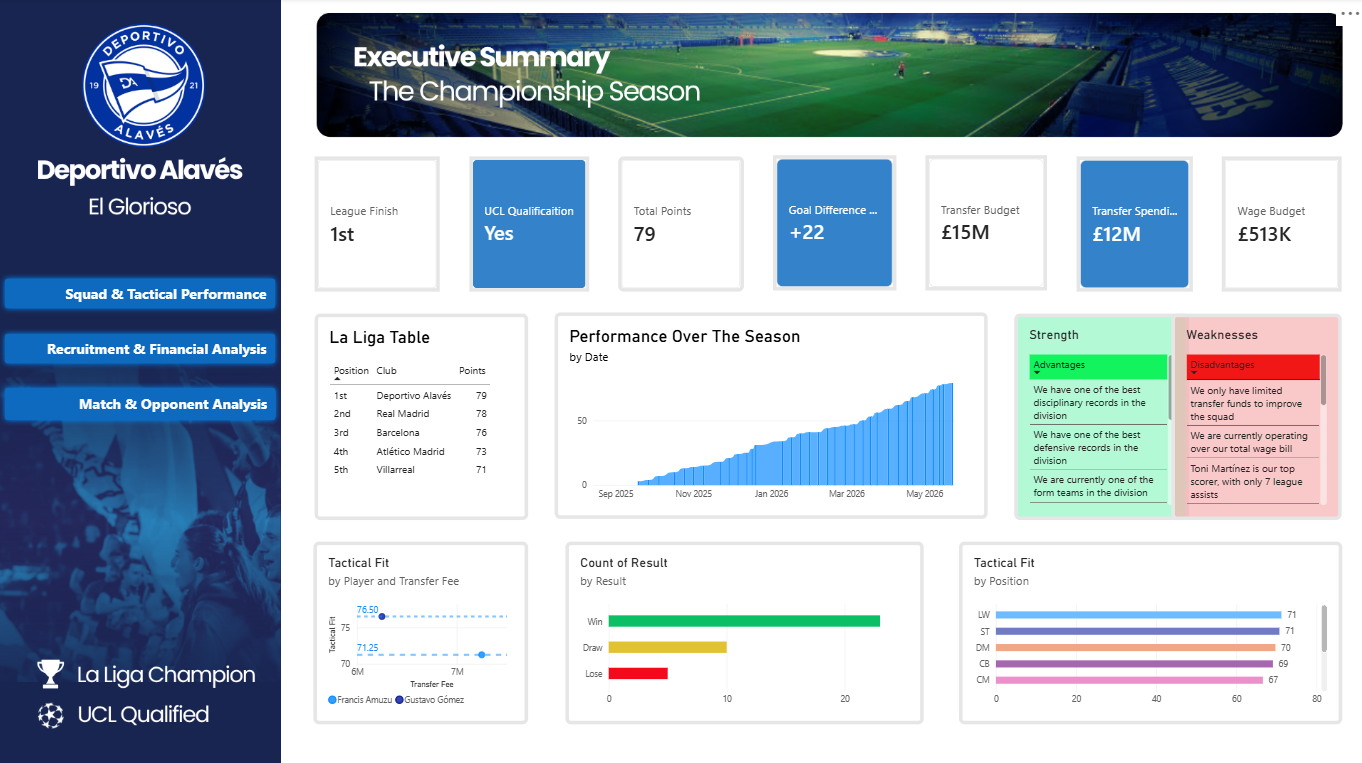

Layout of this report page (visuals, bound fields, positions):
{"tool":"powerbi","page":{"name":"Executive Summary","canvas":[1920,1080],"ordinal":0},"visuals":[{"type":"image","box":[0,0,1920.6,1080.2],"z":0},{"type":"cardVisual","fields":{"Data":["PBI_Financials.League Finish Display"]},"box":[443.3,221.7,176.7,190],"z":1000},{"type":"cardVisual","fields":{"Data":["Min(PBI_Financials.UCL_Qualification)"]},"box":[660.8,221.7,168.3,190],"z":2000},{"type":"cardVisual","fields":{"Data":["PBI_Financials.Total Points"]},"box":[869.9,222,176.7,190],"z":3000},{"type":"cardVisual","fields":{"Data":["Sum(PBI_Financials.Wage_Budget_Week)"]},"box":[1718,222,168,190],"z":4000},{"type":"tableEx","title":"La Liga Table","fields":{"Values":["PBI_Table.Position","PBI_Table.Club","PBI_Table.Points"]},"box":[444,444,300,290],"z":5000},{"type":"ribbonChart","fields":{"Category":["PBI_Matches.Date"],"Y":["Sum(PBI_Matches.Cumulative_Points)"]},"box":[781,442,608,290],"z":6000},{"type":"clusteredBarChart","fields":{"Category":["PBI_Matches.Result"],"Y":["CountNonNull(PBI_Matches.Result)"]},"box":[794.8,764,503.3,256.7],"z":7000},{"type":"cardVisual","fields":{"Data":["PBI_Financials.Goal Difference Display"]},"box":[1087.3,220,173.3,190],"z":8000},{"type":"cardVisual","fields":{"Data":["Sum(PBI_Financials.Transfer_Budget)"]},"box":[1301.4,220,171.7,190],"z":9000},{"type":"cardVisual","fields":{"Data":["Sum(PBI_Financials.Transfer_Spending)"]},"box":[1513.9,222,163.3,190],"z":10000},{"type":"clusteredBarChart","fields":{"Category":["PBI_Suggested_XI.Position"],"Y":["Avg(PBI_Suggested_XI.Tactical_Fit)"]},"box":[1348,764,538.3,256.7],"z":11000},{"type":"scatterChart","fields":{"Series":["PBI_Recruitment.Player"],"X":["PBI_Recruitment.Transfer_Fee"],"Y":["Sum(PBI_Recruitment.Tactical_Fit)"]},"box":[441.6,763.6,301.7,256.7],"z":12000},{"type":"group","id":"g1","title":"Group 1","box":[1426,444,460,290],"z":13000},{"type":"tableEx","title":"Strength","fields":{"Values":["PBI_Team_Analysis.Advantages"]},"box":[1426,444,246,290],"z":13000,"group":"g1"},{"type":"actionButton","box":[0.3,386,396,58],"z":14000},{"type":"tableEx","title":"Weaknesses","fields":{"Values":["PBI_Team_Analysis.Disadvantages"]},"box":[1646.9,444,239.1,290],"z":14000,"group":"g1"},{"type":"actionButton","box":[0.6,462.9,396,58],"z":15000},{"type":"actionButton","box":[0,540,396.7,61.7],"z":16000}]}

Visuals, with their boxes on the page's 1920x1080 design canvas (x1, y1, x2, y2). These are canvas units, not pixel positions in the 1362x763 screenshot, which may show the page scaled, cropped or inside an application window:
image: <bbox>0, 0, 1921, 1080</bbox>
cardVisual - PBI_Financials.League Finish Display: <bbox>443, 222, 620, 412</bbox>
cardVisual - Min(PBI_Financials.UCL_Qualification): <bbox>661, 222, 829, 412</bbox>
cardVisual - PBI_Financials.Total Points: <bbox>870, 222, 1047, 412</bbox>
cardVisual - Sum(PBI_Financials.Wage_Budget_Week): <bbox>1718, 222, 1886, 412</bbox>
"La Liga Table" tableEx: <bbox>444, 444, 744, 734</bbox>
ribbonChart - PBI_Matches.Date x Sum(PBI_Matches.Cumulative_Points): <bbox>781, 442, 1389, 732</bbox>
clusteredBarChart - PBI_Matches.Result x CountNonNull(PBI_Matches.Result): <bbox>795, 764, 1298, 1021</bbox>
cardVisual - PBI_Financials.Goal Difference Display: <bbox>1087, 220, 1261, 410</bbox>
cardVisual - Sum(PBI_Financials.Transfer_Budget): <bbox>1301, 220, 1473, 410</bbox>
cardVisual - Sum(PBI_Financials.Transfer_Spending): <bbox>1514, 222, 1677, 412</bbox>
clusteredBarChart - PBI_Suggested_XI.Position x Avg(PBI_Suggested_XI.Tactical_Fit): <bbox>1348, 764, 1886, 1021</bbox>
scatterChart - PBI_Recruitment.Player x PBI_Recruitment.Transfer_Fee: <bbox>442, 764, 743, 1020</bbox>
"Group 1" group: <bbox>1426, 444, 1886, 734</bbox>
"Strength" tableEx: <bbox>1426, 444, 1672, 734</bbox>
actionButton: <bbox>0, 386, 396, 444</bbox>
"Weaknesses" tableEx: <bbox>1647, 444, 1886, 734</bbox>
actionButton: <bbox>1, 463, 397, 521</bbox>
actionButton: <bbox>0, 540, 397, 602</bbox>
